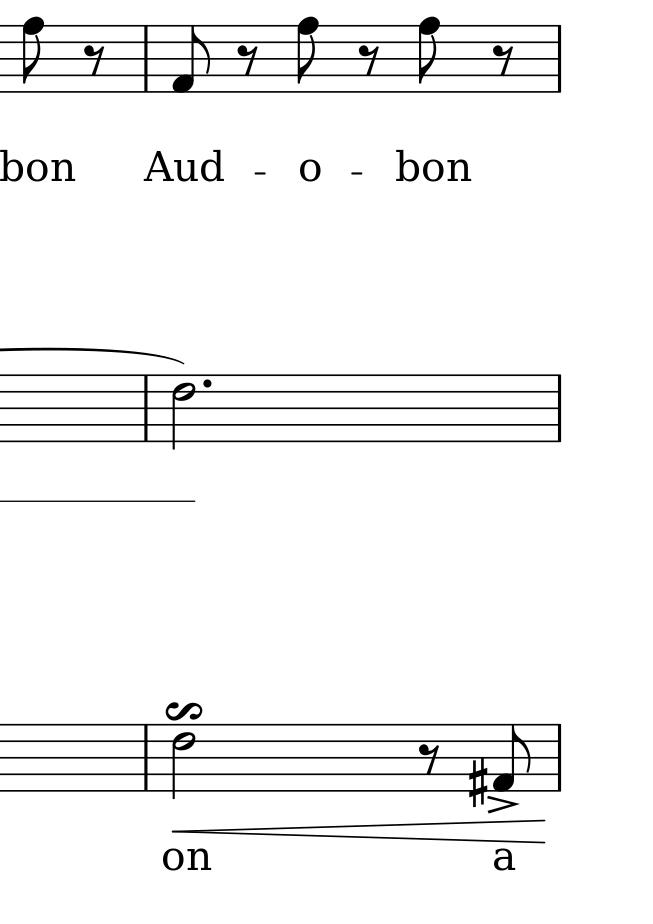2_6: (170, 721, 198, 802), (170, 371, 197, 450)
8_1: (171, 24, 214, 93)
8_8: (492, 725, 533, 793), (20, 16, 46, 96), (416, 16, 442, 94), (295, 15, 320, 96)
Accent_above: (485, 793, 520, 815)
Crescendo_hairpin: (174, 819, 547, 846)
Inverted_turn: (164, 700, 203, 722)
Rests8: (417, 741, 444, 775), (81, 42, 107, 77), (357, 42, 380, 79), (492, 42, 516, 77), (236, 42, 259, 77)
Sharp: (467, 756, 490, 809)
Single_barline: (134, 375, 160, 440), (546, 374, 570, 442), (548, 25, 572, 92), (546, 725, 570, 791), (136, 24, 159, 92), (137, 725, 159, 792)
